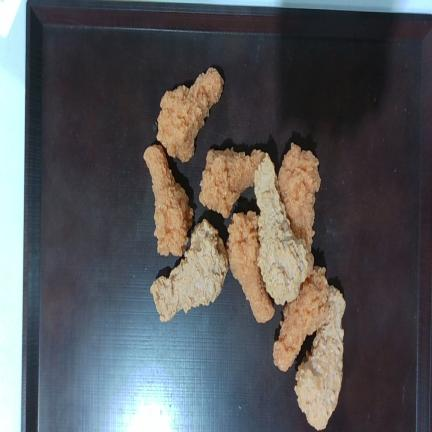chicken: (254, 154, 313, 304), (151, 219, 228, 322), (295, 286, 345, 430), (157, 67, 223, 162), (273, 267, 328, 371), (143, 145, 193, 256), (227, 211, 274, 322), (278, 143, 320, 251), (199, 148, 264, 217)
